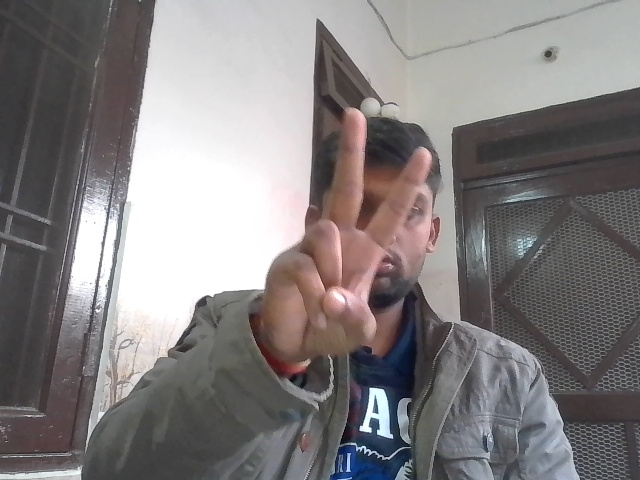Enjoy: (254, 101, 431, 358)
